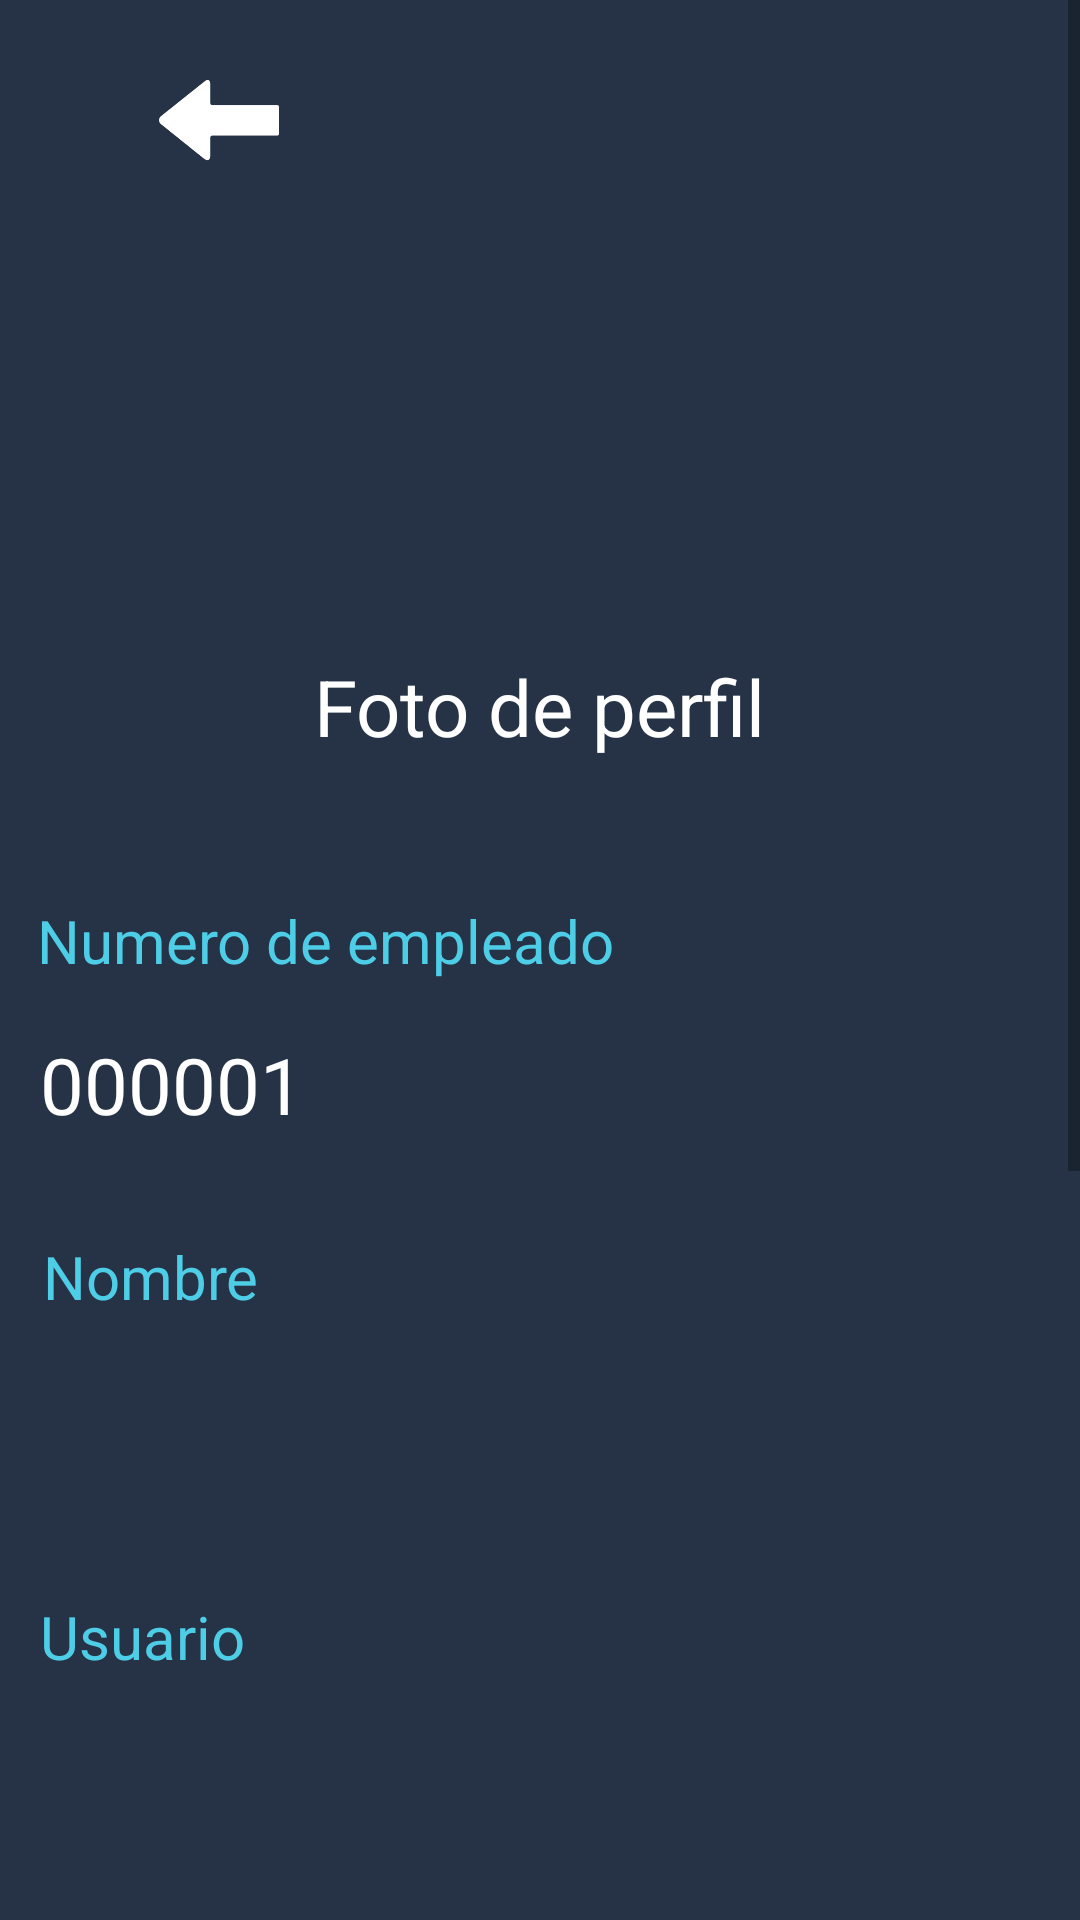

Screen size 1080 x 1920. Icon name, then its center in pixels as (x,y):
Regresar: (219,120)
